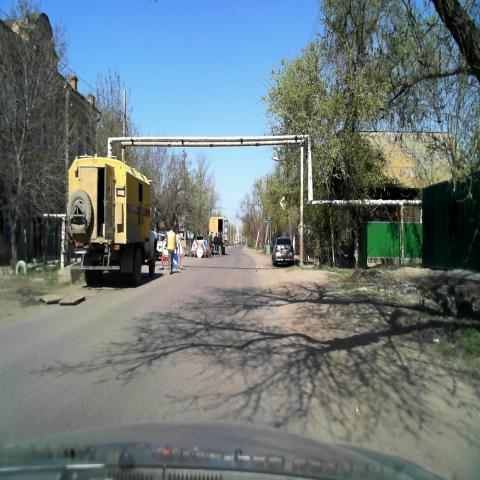1_20_3: (176, 238, 186, 255)
